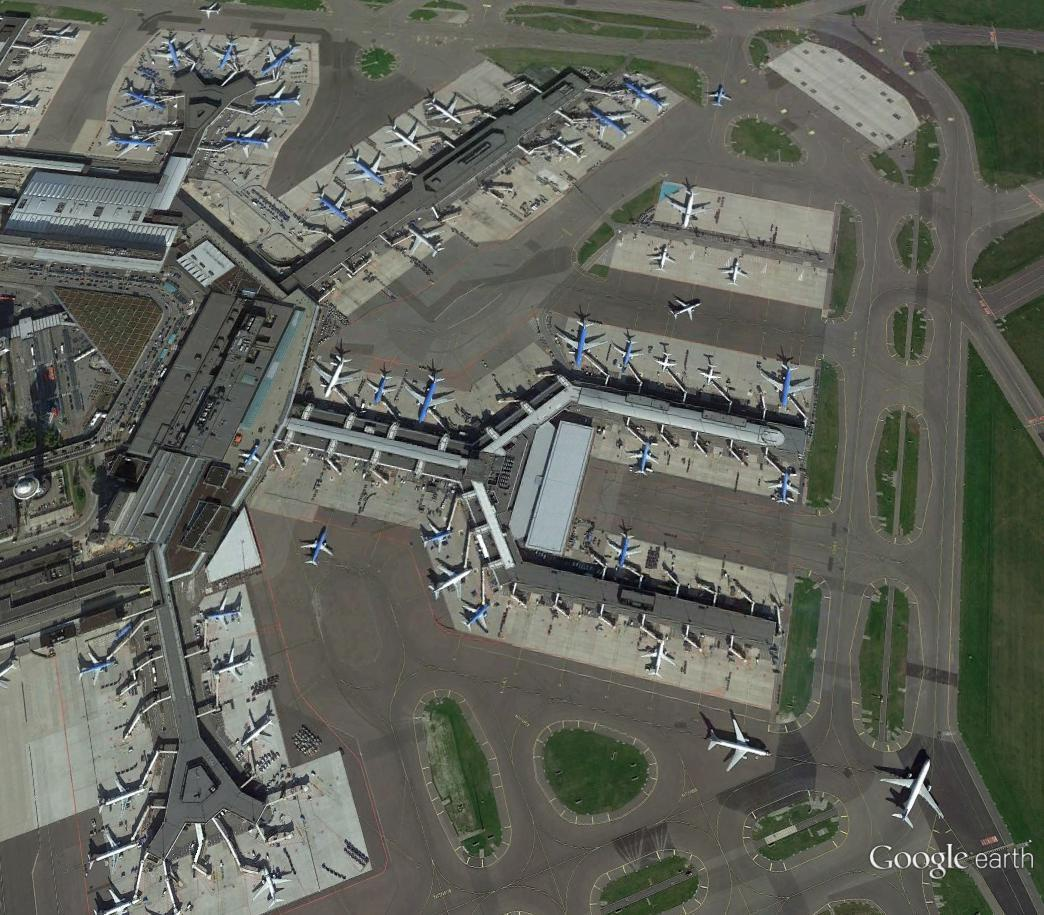aircraft: (876, 756, 950, 834), (703, 713, 778, 776), (551, 315, 614, 376), (757, 360, 823, 416), (400, 367, 459, 426), (307, 353, 363, 404), (424, 557, 480, 608), (216, 119, 279, 164), (247, 78, 308, 120), (197, 587, 248, 636), (211, 637, 260, 687), (102, 119, 161, 159), (662, 186, 714, 231), (583, 103, 639, 144), (341, 147, 392, 192), (618, 79, 675, 118), (251, 863, 298, 910), (307, 185, 355, 230), (149, 33, 199, 75), (239, 706, 282, 754), (119, 76, 168, 118), (74, 646, 121, 689), (296, 523, 338, 571), (258, 37, 307, 77), (638, 639, 680, 684), (604, 530, 645, 574), (405, 221, 448, 261), (417, 516, 458, 557), (608, 333, 648, 374), (423, 90, 467, 127), (765, 470, 806, 509), (204, 40, 252, 72), (90, 888, 147, 914), (384, 118, 423, 155), (364, 370, 403, 407), (621, 444, 663, 478), (546, 134, 590, 166), (458, 601, 496, 638), (664, 294, 707, 326), (233, 440, 267, 477), (32, 22, 83, 45), (718, 258, 753, 290), (3, 90, 44, 116), (646, 244, 679, 275), (2, 121, 33, 148), (705, 84, 736, 111), (650, 350, 682, 375), (697, 361, 725, 388), (198, 2, 224, 22)
